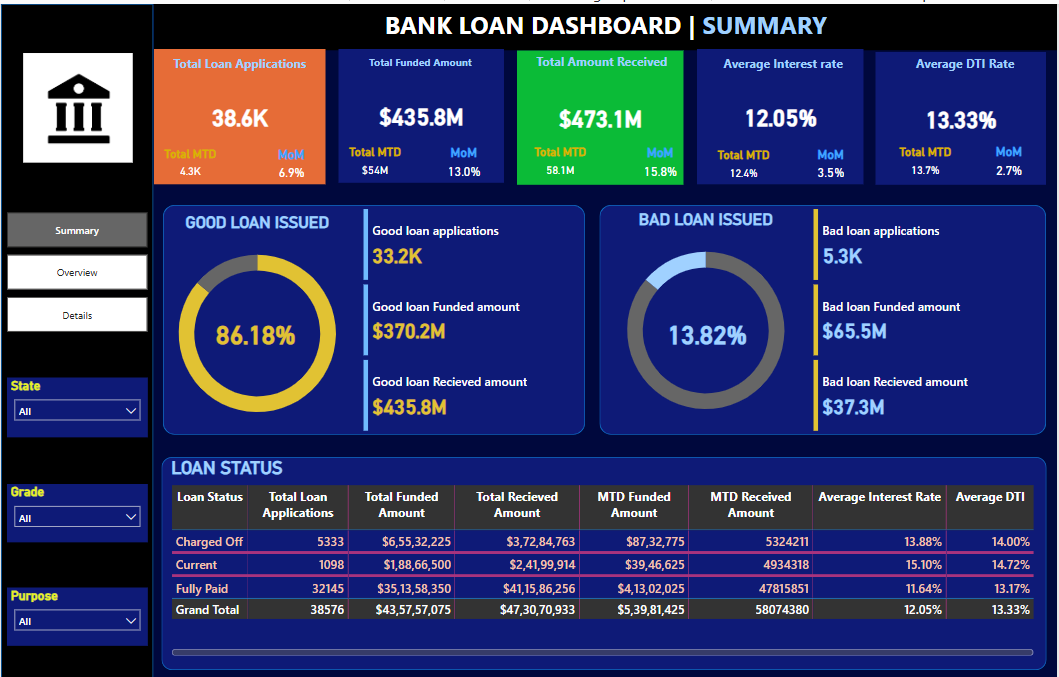

The dashboard page shown, as its layout file describes it:
{"tool":"powerbi","page":{"name":"Summary ","canvas":[1400,900],"ordinal":0},"visuals":[{"type":"textbox","box":[201.9,0,1197.6,61.6],"z":0},{"type":"shape","title":"Loan Status","box":[212.7,600.5,1173.1,282.3],"z":1000},{"type":"shape","box":[0,0,201.9,1000.8],"z":2000},{"type":"card","fields":{"Values":["financial_loan_full.Total Loan Applications"]},"box":[201.9,59.9,227.5,179.6],"z":3000},{"type":"textbox","box":[201.9,61.6,227.5,42.8],"z":4000},{"type":"card","title":"Total MTD ","fields":{"Values":["financial_loan_full.MTD Loan Application"]},"box":[201.7,188.3,100,50],"z":5000},{"type":"card","title":"MoM ","fields":{"Values":["financial_loan_full.MoM Loan Applications"]},"box":[325,188.3,121.7,50],"z":6000},{"type":"card","fields":{"Values":["financial_loan_full.Total Funded Amount"]},"box":[446.9,59.7,219.3,177.2],"z":7000},{"type":"textbox","box":[445.6,61.4,221.1,42.1],"z":8000},{"type":"card","title":"Total MTD ","fields":{"Values":["financial_loan_full.MTD Funded Amount"]},"box":[447.4,187.7,96.5,50.9],"z":9000},{"type":"card","title":"MoM ","fields":{"Values":["financial_loan_full.MoM Funded Amount"]},"box":[557.7,186.5,109.5,51.3],"z":10000},{"type":"card","fields":{"Values":["financial_loan_full.Total Recieved Amount"]},"box":[683.6,61.6,220.7,177.9],"z":11000},{"type":"textbox","box":[686,59.9,220.7,44.5],"z":12000},{"type":"card","title":"Total MTD ","fields":{"Values":["financial_loan_full.MTD Received Amount"]},"box":[691.2,186,98.2,50.9],"z":13000},{"type":"card","fields":{"Values":["financial_loan_full.Averege Interest Rate"]},"box":[921.8,59.9,220.7,179.6],"z":14000},{"type":"card","title":"MoM ","fields":{"Values":["financial_loan_full.MoM Received Amount"]},"box":[814,186,121.1,50.9],"z":15000},{"type":"textbox","box":[929,61.6,220.7,54.7],"z":16000},{"type":"card","title":"Total MTD ","fields":{"Values":["financial_loan_full.MTD Interest Rate Average"]},"box":[929,189.9,111.2,49.6],"z":17000},{"type":"card","title":"MoM ","fields":{"Values":["financial_loan_full.MoM Average Interest Rate"]},"box":[1040.2,188.2,119.8,49.6],"z":18000},{"type":"card","fields":{"Values":["financial_loan_full.Average DTI"]},"box":[1159.9,63.3,225.8,176.2],"z":19000},{"type":"textbox","box":[1171.9,61.6,213.8,42.8],"z":20000},{"type":"image","box":[0,59.3,203.4,155.9],"z":21000},{"type":"card","title":"Total MTD ","fields":{"Values":["financial_loan_full.MTD Average DTI Rate"]},"box":[1171.9,186.5,107.8,49.6],"z":22000},{"type":"card","title":"MoM ","fields":{"Values":["financial_loan_full.MoM Average DTI"]},"box":[1286.5,184.8,99.2,53],"z":23000},{"type":"shape","box":[213.8,266.9,559.4,304.5],"z":24000},{"type":"donutChart","title":"GOOD LOAN ISSUED","fields":{"Category":["financial_loan_full.Good Loan Vs Bad Loan"],"Y":["financial_loan_full.Total Loan Applications"]},"box":[201.9,275.4,273.7,296],"z":25000},{"type":"card","fields":{"Values":["financial_loan_full.Good Loan %"]},"box":[266.9,405.5,142,59.9],"z":26000},{"type":"cardVisual","fields":{"Data":["financial_loan_full.Good loan applications","financial_loan_full.Good loan Funded amount","financial_loan_full.Good loan Recieved amount"]},"box":[475.6,266.9,284,304.5],"z":27000},{"type":"shape","box":[793.8,266.9,591.9,304.5],"z":28000},{"type":"donutChart","title":"BAD LOAN ISSUED","fields":{"Category":["financial_loan_full.Good Loan Vs Bad Loan"],"Y":["financial_loan_full.Total Loan Applications"]},"box":[797.2,272,273.7,296],"z":29000},{"type":"tableEx","title":"LOAN STATUS","fields":{"Values":["financial_loan_full.loan_status","financial_loan_full.Total Loan Applications","financial_loan_full.Total Funded Amount","financial_loan_full.Total Recieved Amount","financial_loan_full.MTD Funded Amount","financial_loan_full.MTD Received Amount","financial_loan_full.Average Interest Rate","financial_loan_full.Average DTI"]},"box":[220.7,600.5,1153.2,268.4],"z":30000},{"type":"card","fields":{"Values":["financial_loan_full.Bad Loan %"]},"box":[864,405.5,142,59.9],"z":31000},{"type":"cardVisual","fields":{"Data":["financial_loan_full.Bad loan applications","financial_loan_full.Bad loan Funded amount","financial_loan_full.Bad loan Recieved amount"]},"box":[1071,266.9,302.8,304.5],"z":32000},{"type":"slicer","title":"State","fields":{"Values":["financial_loan_full.address_state"]},"box":[8,495.7,186.9,79.5],"z":33000},{"type":"slicer","title":"Grade","fields":{"Values":["financial_loan_full.grade"]},"box":[8,635.6,186.9,77.5],"z":34000},{"type":"slicer","title":"Purpose","fields":{"Values":["financial_loan_full.purpose"]},"box":[8,773.4,186.9,77.5],"z":35000},{"type":"pageNavigator","box":[8,276.4,186.9,159.1],"z":36000}]}

Visuals, with their boxes in screenshot pixels (x1, y1, x2, y2), scaled from the page's 1400x900 canvas onto the 1059x677 screenshot:
textbox: (153, 0, 1058, 46)
"Loan Status" shape: (161, 452, 1048, 664)
shape: (0, 0, 153, 676)
card - financial_loan_full.Total Loan Applications: (153, 45, 325, 180)
textbox: (153, 46, 325, 79)
"Total MTD " card: (153, 142, 228, 179)
"MoM " card: (246, 142, 338, 179)
card - financial_loan_full.Total Funded Amount: (338, 45, 504, 178)
textbox: (337, 46, 504, 78)
"Total MTD " card: (338, 141, 411, 179)
"MoM " card: (422, 140, 505, 179)
card - financial_loan_full.Total Recieved Amount: (517, 46, 684, 180)
textbox: (519, 45, 686, 79)
"Total MTD " card: (523, 140, 597, 178)
card - financial_loan_full.Averege Interest Rate: (697, 45, 864, 180)
"MoM " card: (616, 140, 707, 178)
textbox: (703, 46, 870, 87)
"Total MTD " card: (703, 143, 787, 180)
"MoM " card: (787, 142, 877, 179)
card - financial_loan_full.Average DTI: (877, 48, 1048, 180)
textbox: (886, 46, 1048, 79)
image: (0, 45, 154, 162)
"Total MTD " card: (886, 140, 968, 178)
"MoM " card: (973, 139, 1048, 179)
shape: (162, 201, 585, 430)
"GOOD LOAN ISSUED" donutChart: (153, 207, 360, 430)
card - financial_loan_full.Good Loan %: (202, 305, 309, 350)
cardVisual - financial_loan_full.Good loan applications x financial_loan_full.Good loan Funded amount: (360, 201, 575, 430)
shape: (600, 201, 1048, 430)
"BAD LOAN ISSUED" donutChart: (603, 205, 810, 427)
"LOAN STATUS" tableEx: (167, 452, 1039, 654)
card - financial_loan_full.Bad Loan %: (654, 305, 761, 350)
cardVisual - financial_loan_full.Bad loan applications x financial_loan_full.Bad loan Funded amount: (810, 201, 1039, 430)
"State" slicer: (6, 373, 147, 433)
"Grade" slicer: (6, 478, 147, 536)
"Purpose" slicer: (6, 582, 147, 640)
pageNavigator: (6, 208, 147, 328)
